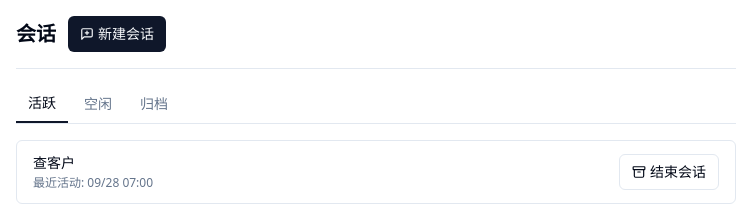
Test case: ConversationList › switches tabs by re-querying with the new status
The width and height of the screenshot is (753, 221).
Expected: the list item with test id "conversation-row-c1" is shown, [17,141,735,203]
Click the tab with test id "tab-idle" at (98, 104), box [72,85,124,123]
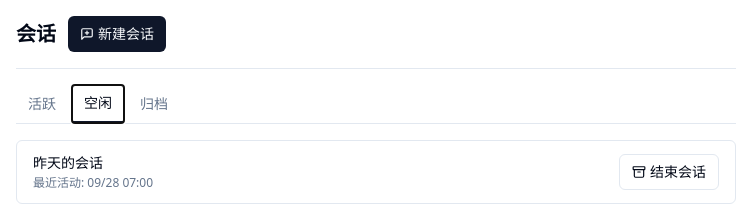
Now the list item with test id "conversation-row-c2" is shown, box [17,141,735,203]
Now the list item with test id "conversation-row-c1" is gone
